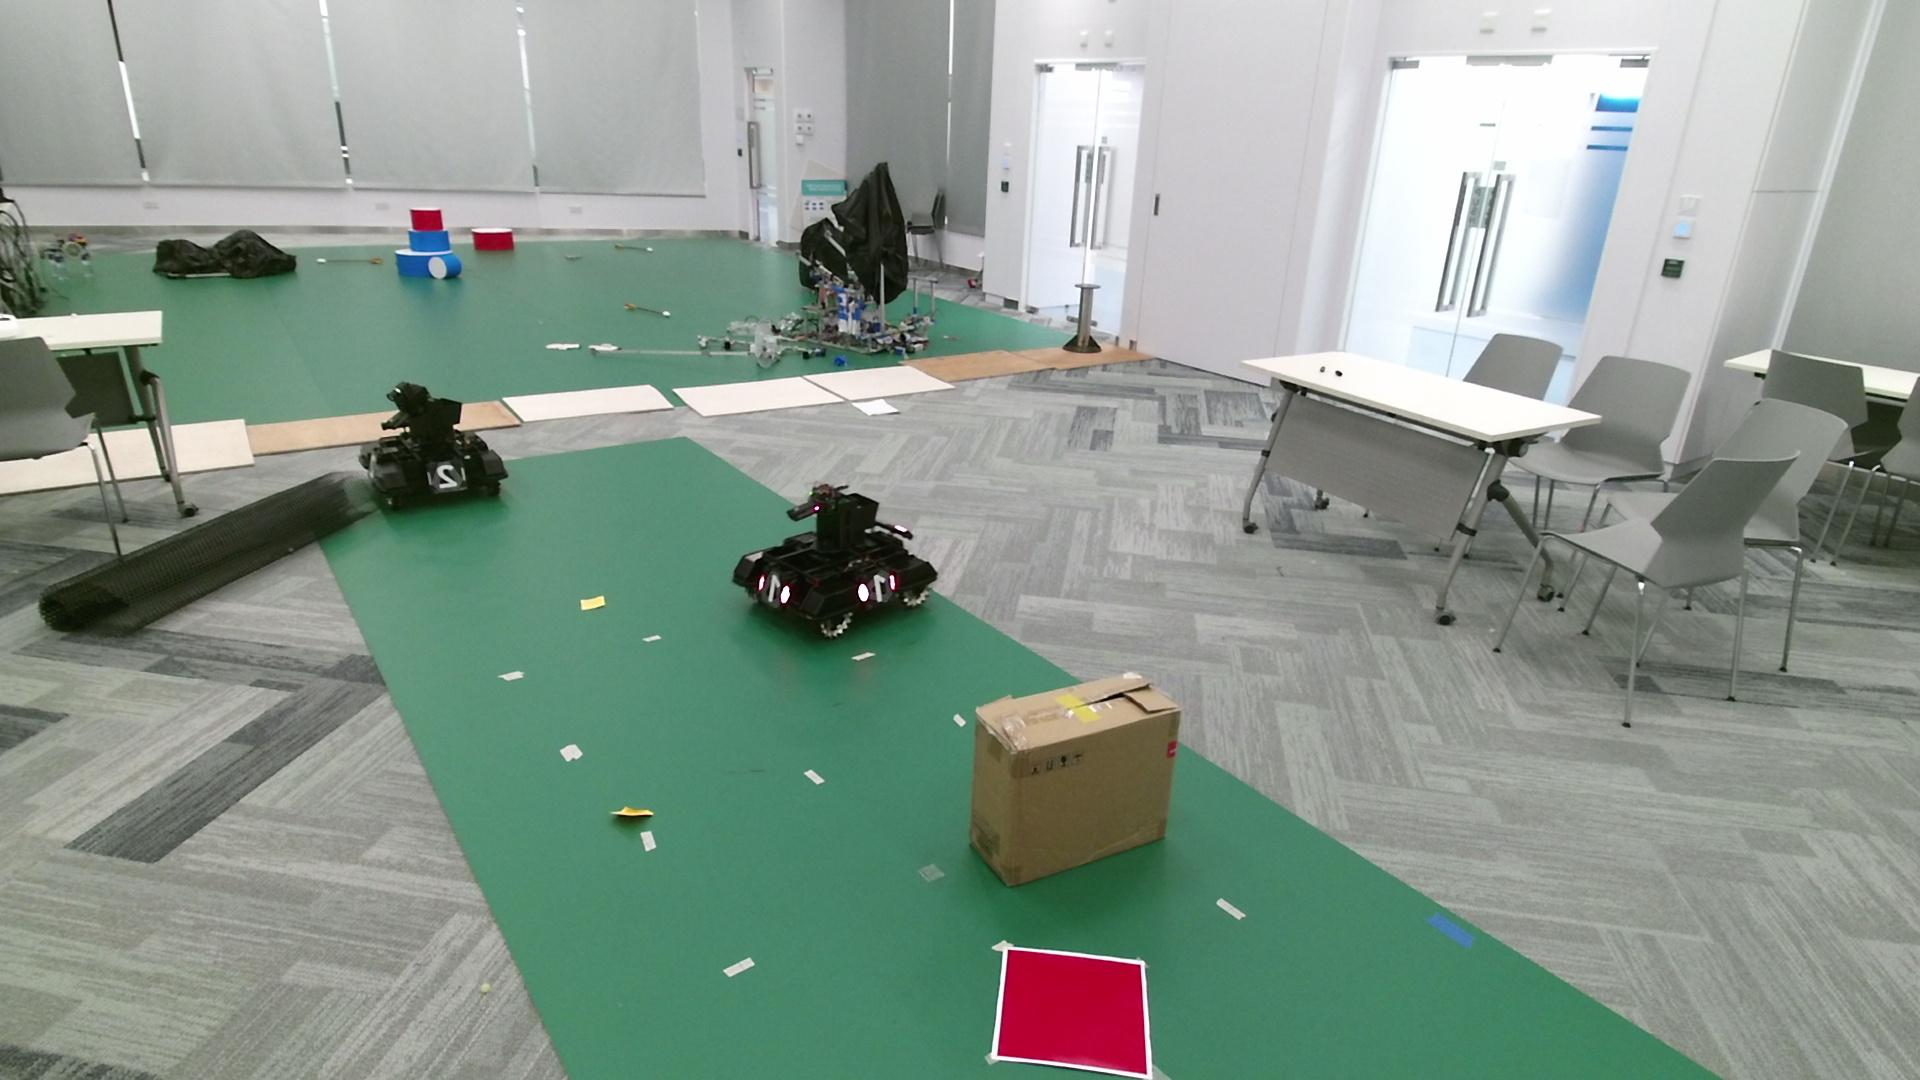robot: (732, 481, 939, 640), (357, 380, 509, 512)
